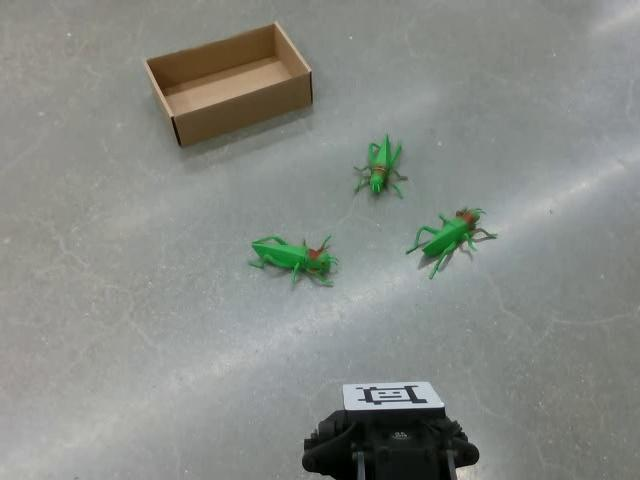box: (143, 20, 313, 147)
grasshopper: (405, 205, 497, 279), (247, 232, 338, 289), (352, 132, 408, 199)
